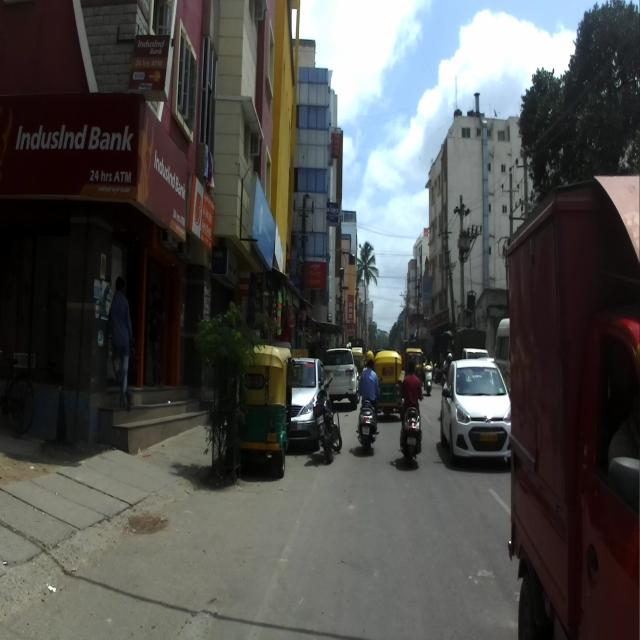autorickshaw: (240, 342, 295, 478), (373, 349, 403, 416)
car: (440, 358, 511, 467), (290, 355, 330, 455), (324, 346, 361, 410)
motorcycle: (312, 376, 342, 463)
scooter: (396, 380, 424, 466), (356, 374, 382, 454)
truck: (506, 175, 640, 639)
